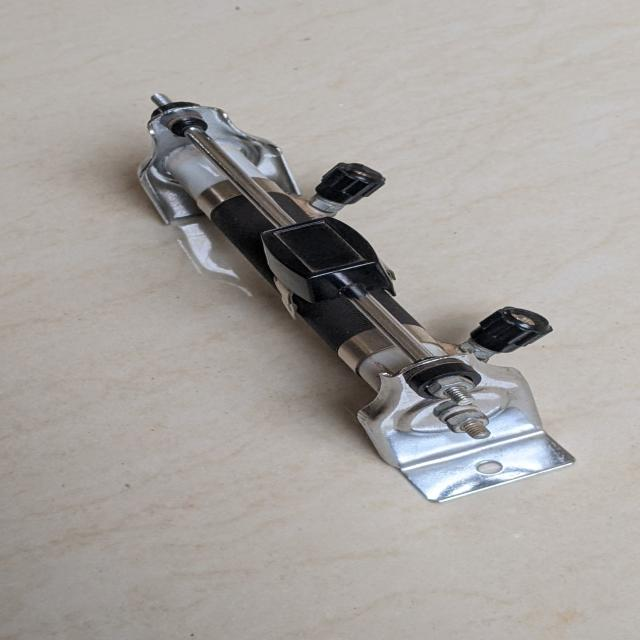Rheostat: (84, 88, 616, 510)
